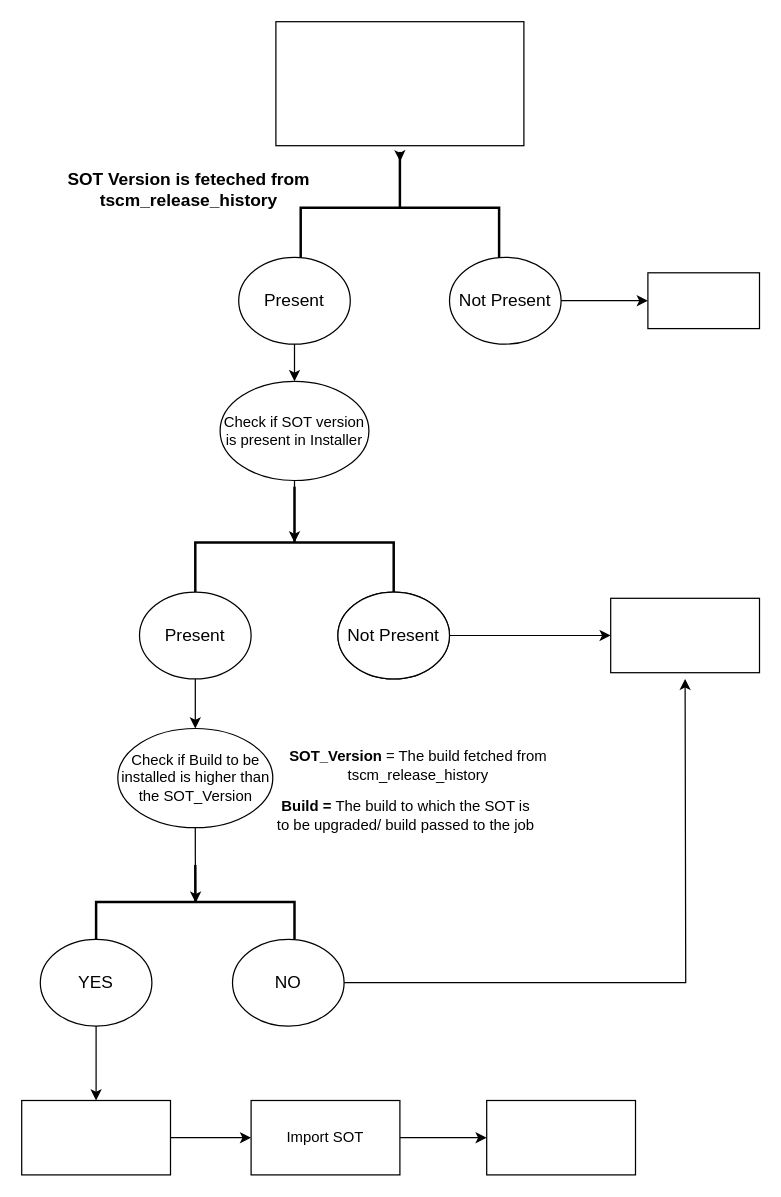
Image size: 781x1197. Some labels were removed from this diagram. The box of each missing label's shape, as (x1, y1, x2, y2) in pixels:
Check SOT Version: (275, 20, 524, 146)
Install SOT_Version build to database: (20, 1099, 170, 1175)
JOB FAILs: (647, 272, 760, 329)
Normal build install with SOT Import: (609, 597, 760, 673)
Upgrade database to build passed in the job: (485, 1099, 636, 1175)
